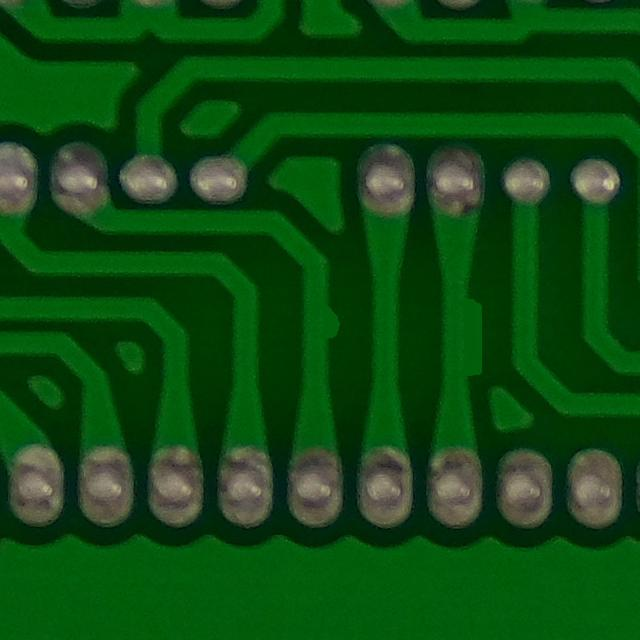spur: (292, 289, 348, 352)
